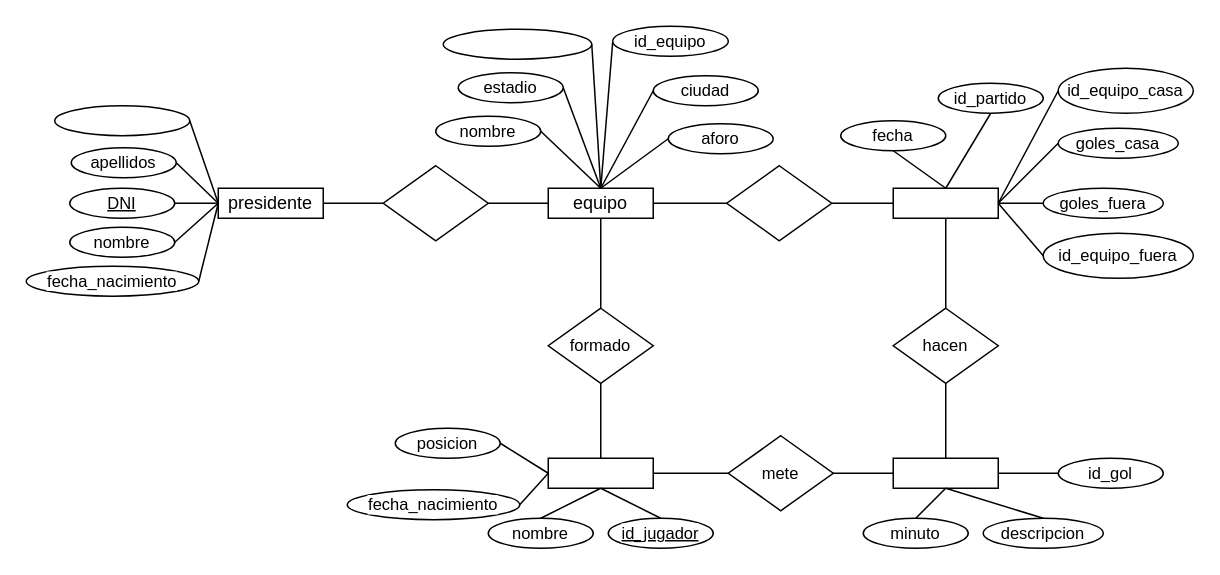
Image size: 1220x575. Some labels were removed from this diagram. The box of each missing label's shape, as (x1, y1, x2, y2) in pixels:
año_eleccion: (53, 104, 190, 136)
año_fundacion: (442, 28, 592, 59)
de un: (382, 164, 488, 241)
gol: (892, 457, 998, 488)
jugador: (547, 457, 653, 488)
participa: (725, 164, 832, 241)
partido: (892, 187, 998, 218)
